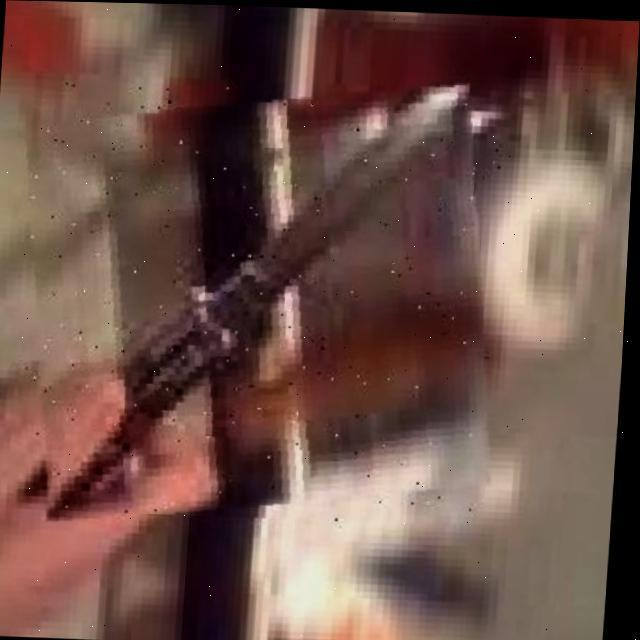knife: (14, 78, 508, 522)
